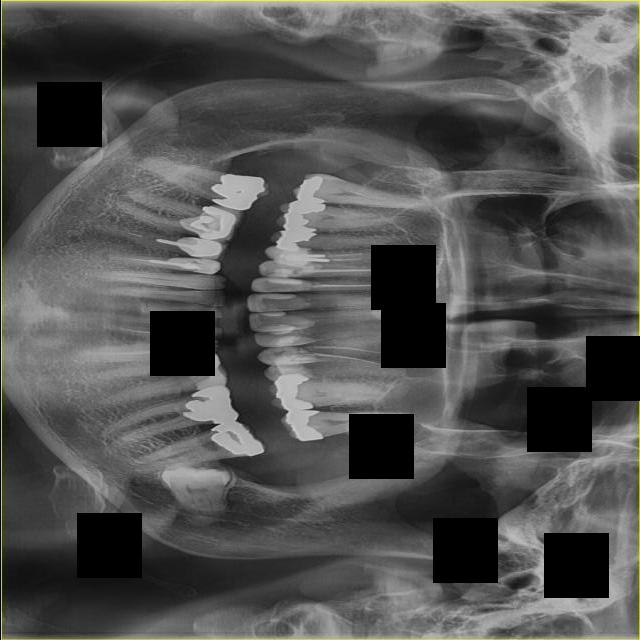71: (154, 234, 208, 254), (146, 259, 203, 270), (286, 256, 326, 263), (283, 253, 324, 258)
74: (308, 352, 385, 365), (80, 349, 174, 357), (304, 346, 385, 353), (304, 269, 407, 274), (113, 327, 169, 336), (310, 283, 387, 288), (118, 230, 150, 238), (114, 257, 150, 262), (330, 251, 363, 256), (332, 258, 363, 262)
NucleOSS Implant: (206, 412, 267, 467), (176, 384, 240, 431), (207, 172, 265, 212), (281, 199, 326, 233), (272, 373, 311, 412), (274, 224, 318, 256), (284, 408, 323, 443), (173, 350, 218, 375), (294, 174, 326, 207), (188, 210, 214, 234)
Straumann Implant: (156, 339, 218, 364), (251, 327, 316, 349), (254, 345, 319, 367), (247, 290, 309, 313), (261, 357, 313, 383), (247, 312, 313, 332), (166, 254, 222, 276), (260, 259, 319, 278), (264, 246, 310, 267), (251, 277, 310, 292), (193, 365, 227, 390), (167, 328, 221, 343)
Zimmer Implant: (179, 200, 244, 245), (174, 234, 229, 263)
